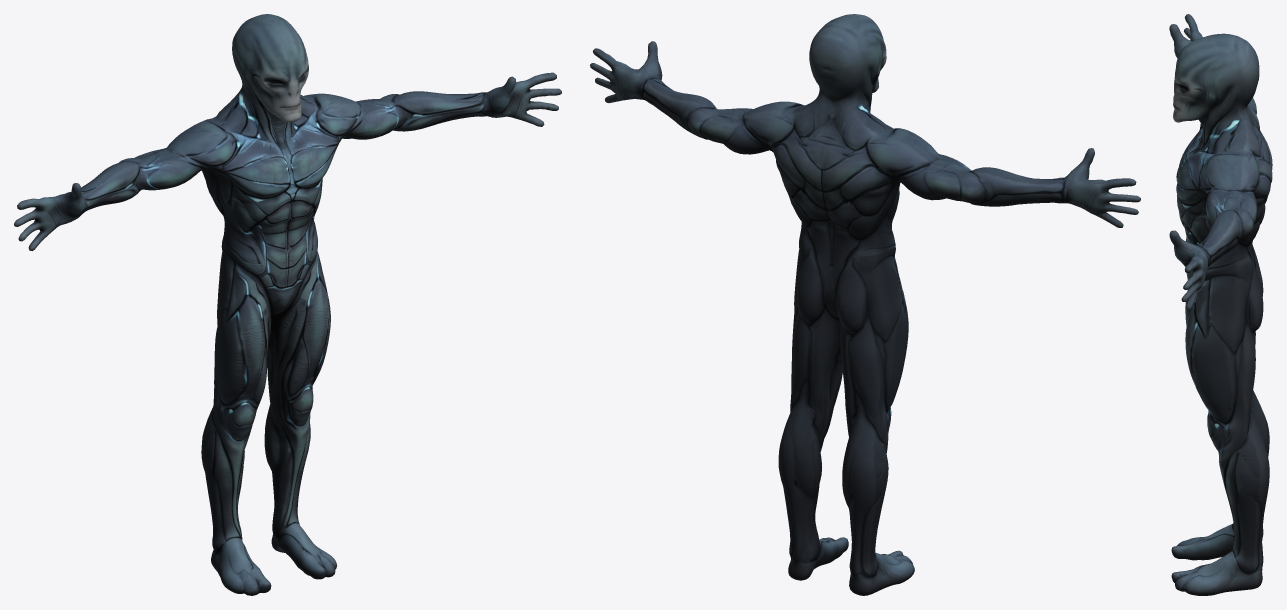
The model's file is 160_orig.glb.
The picture shows the model from 3 angles, left to right: view 1: azimuth 30°, elevation 25°; view 2: azimuth 150°, elevation 25°; view 3: azimuth 270°, elevation 25°; orthographic projection. The views are drawn at different scales.
Visible parts, largest first — view 1: world; view 2: world; view 3: world.
Part boxes in pixels (left/top/right/bottom): world: left=14, top=14, right=561, bottom=595; world: left=590, top=14, right=1140, bottom=595; world: left=1169, top=14, right=1272, bottom=595.
Bounding box in the file's own units: 2 × 1.94 × 0.3367.
Materials: 1 (1 with a texture image).
